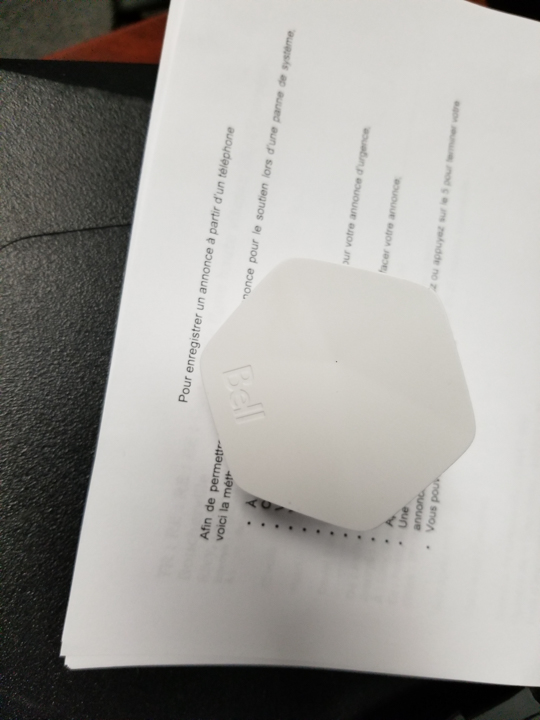pod: (193, 253, 497, 543)
